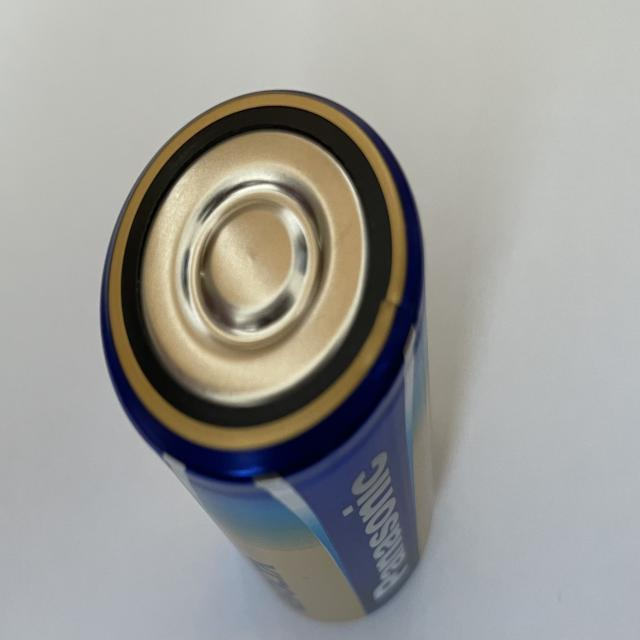Hazard: (97, 85, 434, 632)
